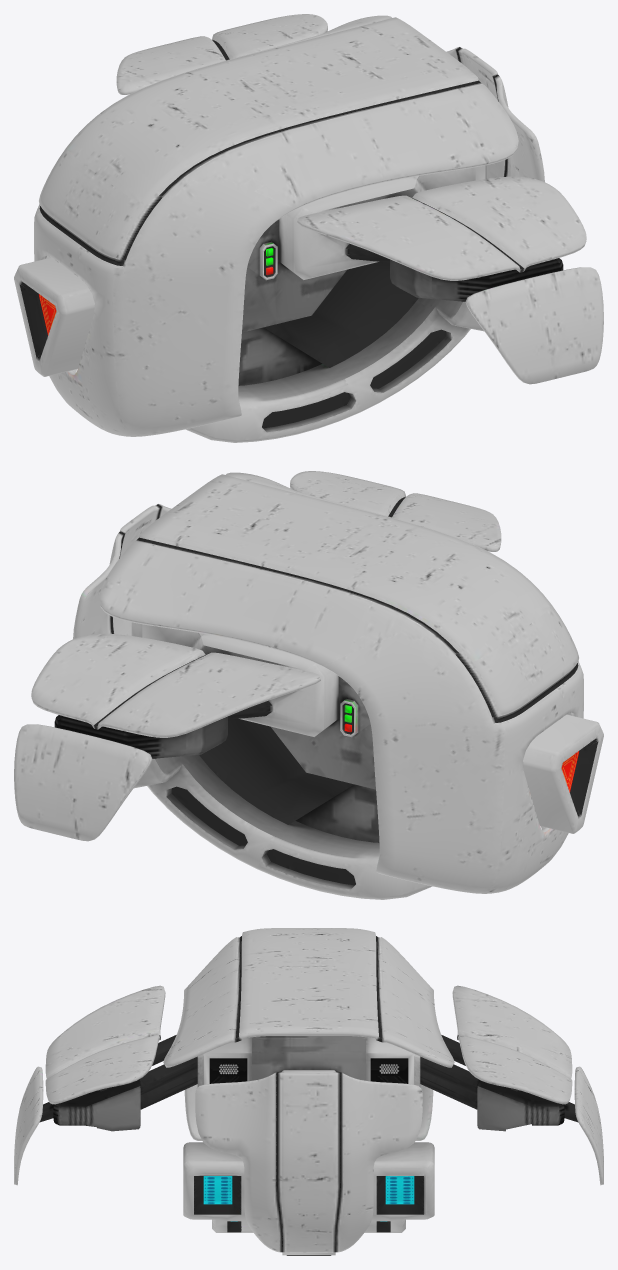
File: compressed_1762316343552_Drone Blender_2.90-edit2.glb
3 renders of one model, top to bottom at view 1: azimuth 30°, elevation 25°; view 2: azimuth 150°, elevation 25°; view 3: azimuth 270°, elevation 25°, orthographic. The views are drawn at different scales.
Parts seen in each view (by area): view 1: DRON.001, DRON; view 2: DRON.001, DRON; view 3: DRON.001, DRON.
Boxes of the visible parts, <box> form: DRON.001: <box>34,15,544,436</box>; DRON: <box>14,14,603,442</box>; DRON.001: <box>73,472,583,893</box>; DRON: <box>14,471,603,899</box>; DRON.001: <box>163,928,454,1252</box>; DRON: <box>14,985,603,1255</box>.
Bounding box in the file's own units: 1.53 × 0.9963 × 2.04.
Materials: 1 (1 with a texture image).
